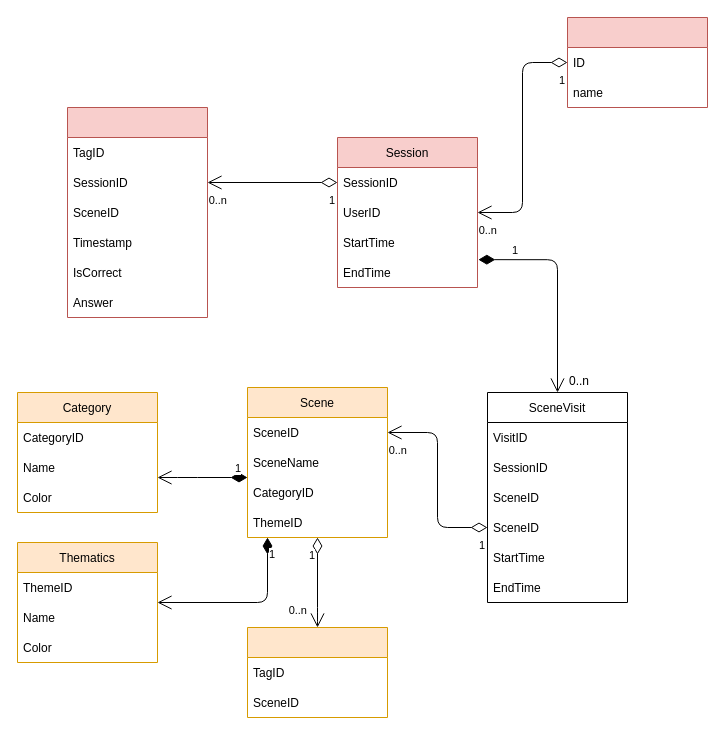
This 725x735 diagram has some shape labels left out. Each missing label, with the box of its shape:
QCM: (246, 626, 388, 718)
QCMAnswer: (66, 106, 208, 318)
User: (566, 16, 708, 108)
